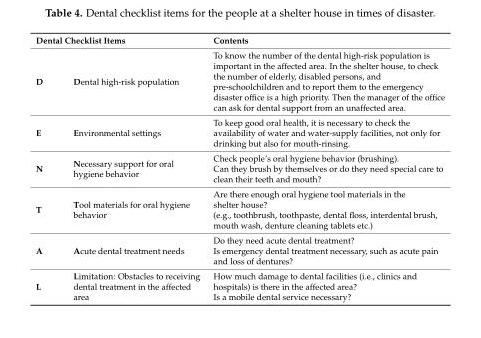table: (35, 34, 443, 301)
table column: (205, 34, 443, 301), (57, 34, 205, 301), (35, 34, 57, 301)
table column header: (35, 34, 443, 114)
table row: (35, 47, 443, 114), (35, 185, 443, 232), (35, 114, 443, 150), (35, 150, 443, 185), (35, 232, 443, 267), (35, 267, 443, 301), (35, 34, 443, 47)
table spanning cell: (205, 34, 443, 114), (35, 34, 205, 47)
